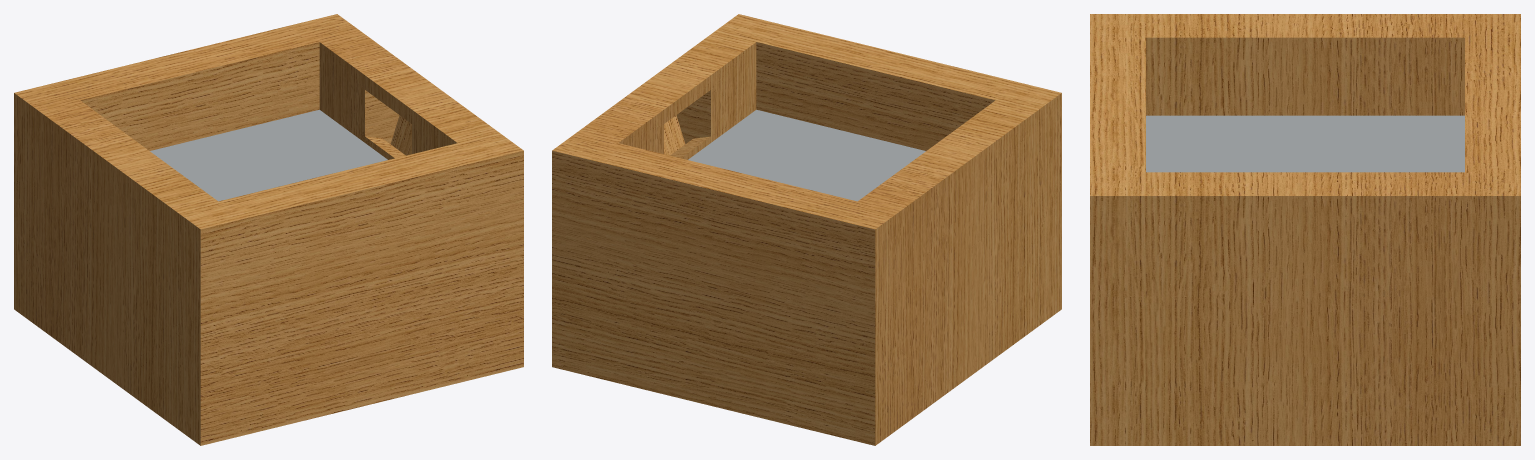
Rendered from masu3D.gltf.
The picture shows the model from 3 angles, left to right: view 1: azimuth 30°, elevation 25°; view 2: azimuth 150°, elevation 25°; view 3: azimuth 270°, elevation 25°; orthographic projection. The views are drawn at different scales.
Parts seen in each view (by area): view 1: Masu2 - Copy (2)-1, mirror-1; view 2: Masu2 - Copy (2)-1, mirror-1; view 3: Masu2 - Copy (2)-1, mirror-1.
Boxes of the visible parts, x1,y1,x2,y2 form: Masu2 - Copy (2)-1: (14, 14, 523, 445); mirror-1: (150, 109, 387, 201); Masu2 - Copy (2)-1: (552, 14, 1061, 445); mirror-1: (688, 109, 925, 201); Masu2 - Copy (2)-1: (1090, 14, 1520, 445); mirror-1: (1146, 115, 1464, 172).
Size of the model in its own units: 0.1 by 0.064 by 0.1.
Materials: 2 (1 with a texture image).
